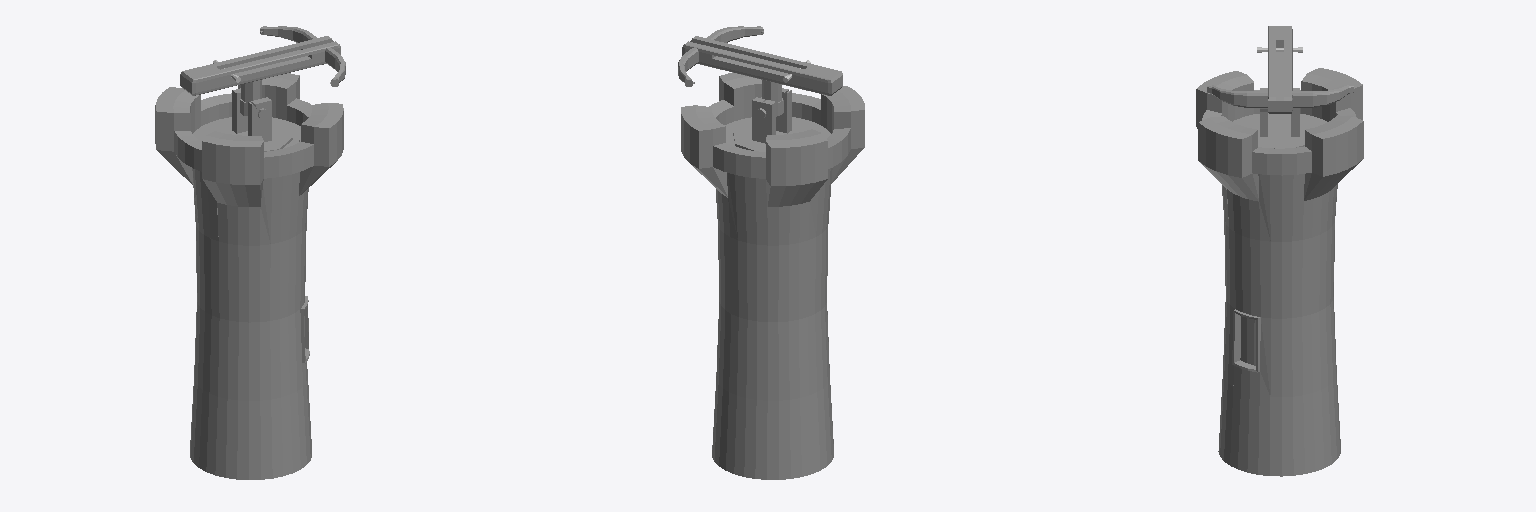
Rendered from TorreAndBest.obj.
The picture shows the model from 3 angles: view 1: azimuth 30°, elevation 25°; view 2: azimuth 150°, elevation 25°; view 3: azimuth 270°, elevation 25°; orthographic projection.
Visible parts, largest first — view 1: Cilindro_Cilindro.003, Cubo.002, Cubo.001_Cubo.010; view 2: Cilindro_Cilindro.003, Cubo.002, Cubo.001_Cubo.010; view 3: Cilindro_Cilindro.003, Cubo.002, Cubo.001_Cubo.010.
Boxes of the visible parts, x1=… form: Cilindro_Cilindro.003: x1=155, y1=73, x2=343, y2=479; Cubo.002: x1=180, y1=26, x2=345, y2=118; Cubo.001_Cubo.010: x1=211, y1=88, x2=292, y2=151; Cilindro_Cilindro.003: x1=681, y1=72, x2=864, y2=479; Cubo.002: x1=678, y1=26, x2=842, y2=118; Cubo.001_Cubo.010: x1=733, y1=88, x2=810, y2=151; Cilindro_Cilindro.003: x1=1196, y1=68, x2=1363, y2=476; Cubo.002: x1=1207, y1=26, x2=1353, y2=113; Cubo.001_Cubo.010: x1=1243, y1=88, x2=1317, y2=148.
Size of the model in its own units: 6.93 by 16.38 by 6.3.